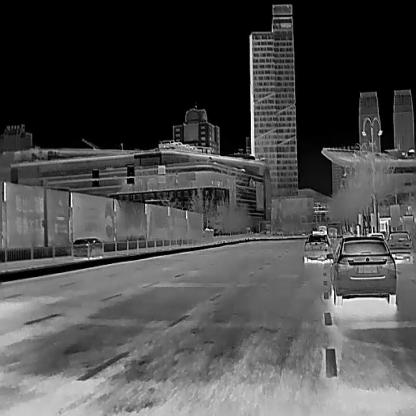bus: (318, 224, 326, 233)
car: (329, 232, 397, 306), (302, 228, 333, 262), (386, 229, 413, 263), (72, 234, 104, 258), (367, 231, 384, 239)
